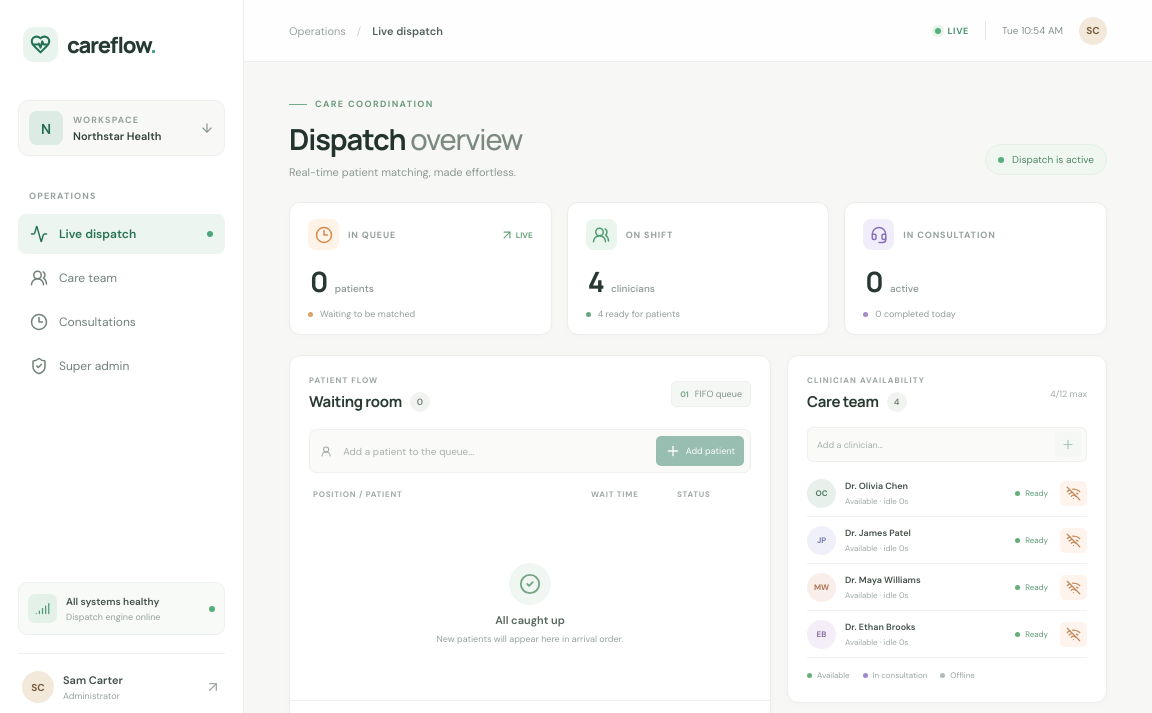
Test: dispatch dashboard › opens the super-admin console to manage patients, clinicians, and consultations
The width and height of the screenshot is (1152, 713).
Click the button "Super admin" at (122,366), box [18,346,225,386]
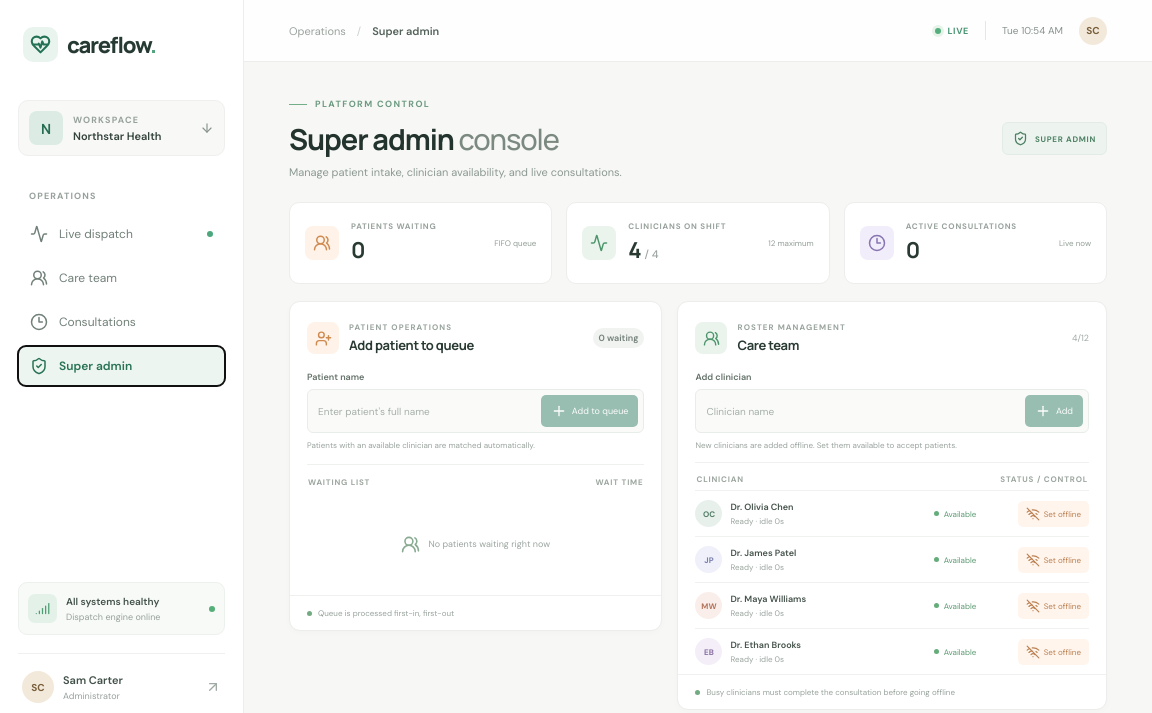
Result: the heading "Super admin console" is shown at [289,119,559,159]
Type "Admin Test Patient" into the field labelled "Patient name" at (423,411), box [313,398,533,424]
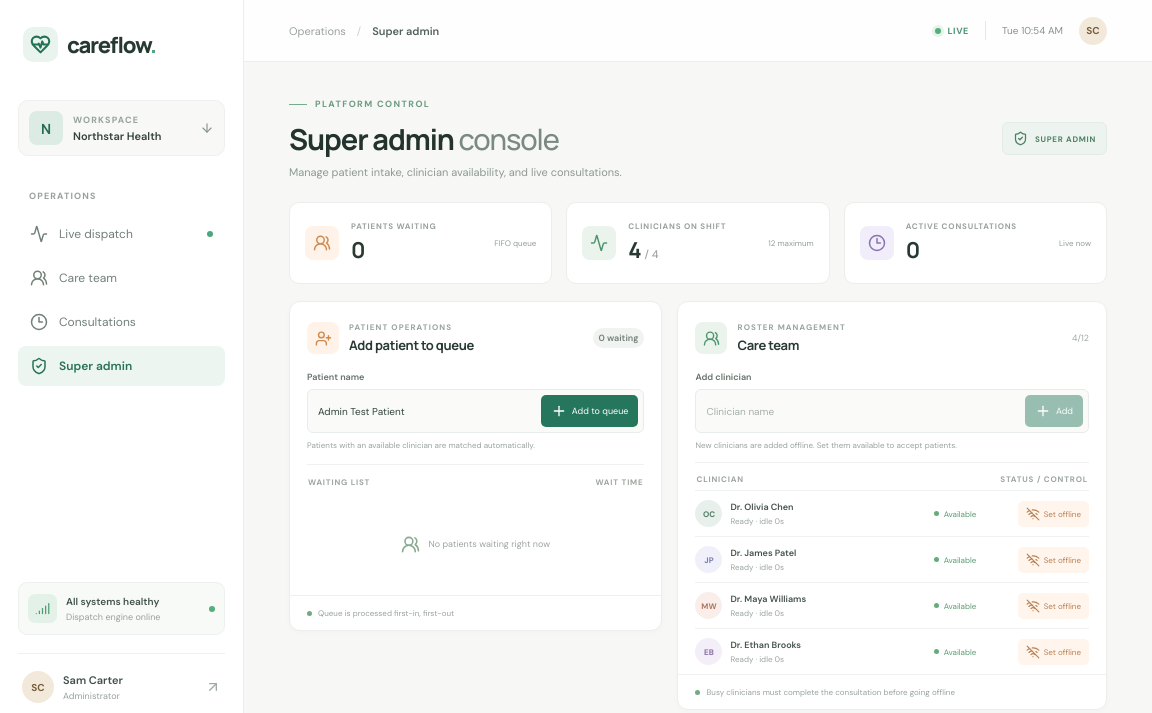
Click the button "Add to queue" at (590,411), box [541,395,638,427]
(page scrolled)
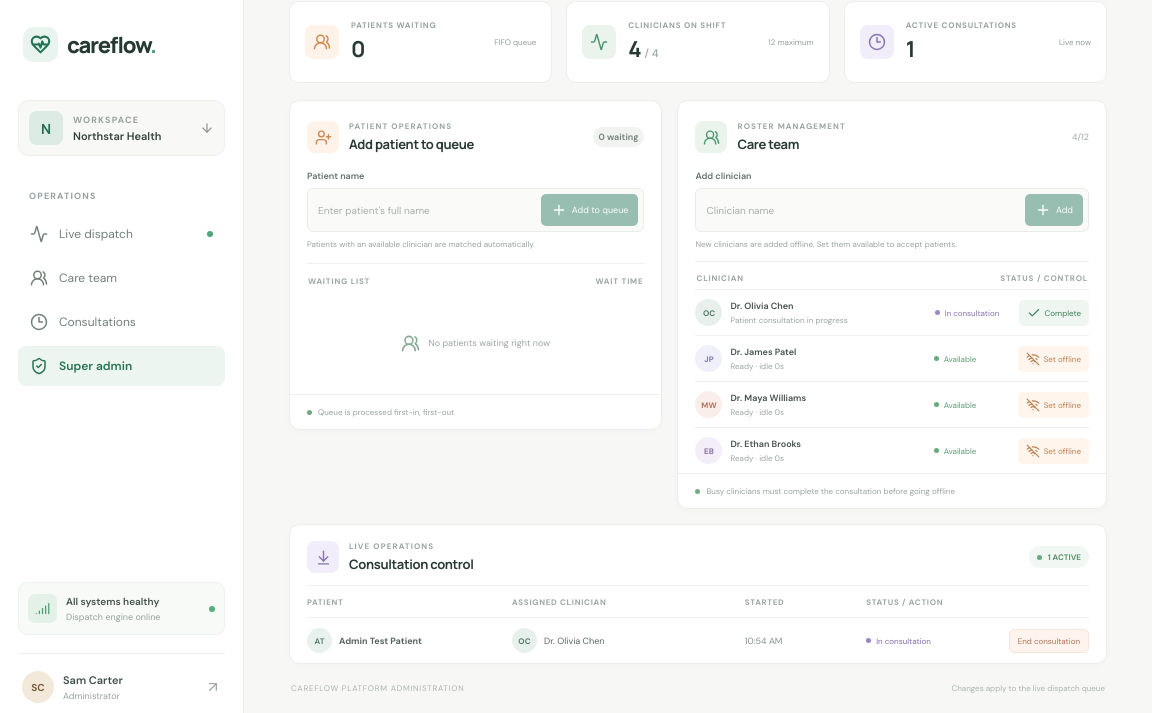
Result: the text "Admin Test Patient" is shown at [339,634,422,646]
Result: the button "End consultation" is shown
Click the button "End consultation" at (1049,640), box [1009,628,1089,652]
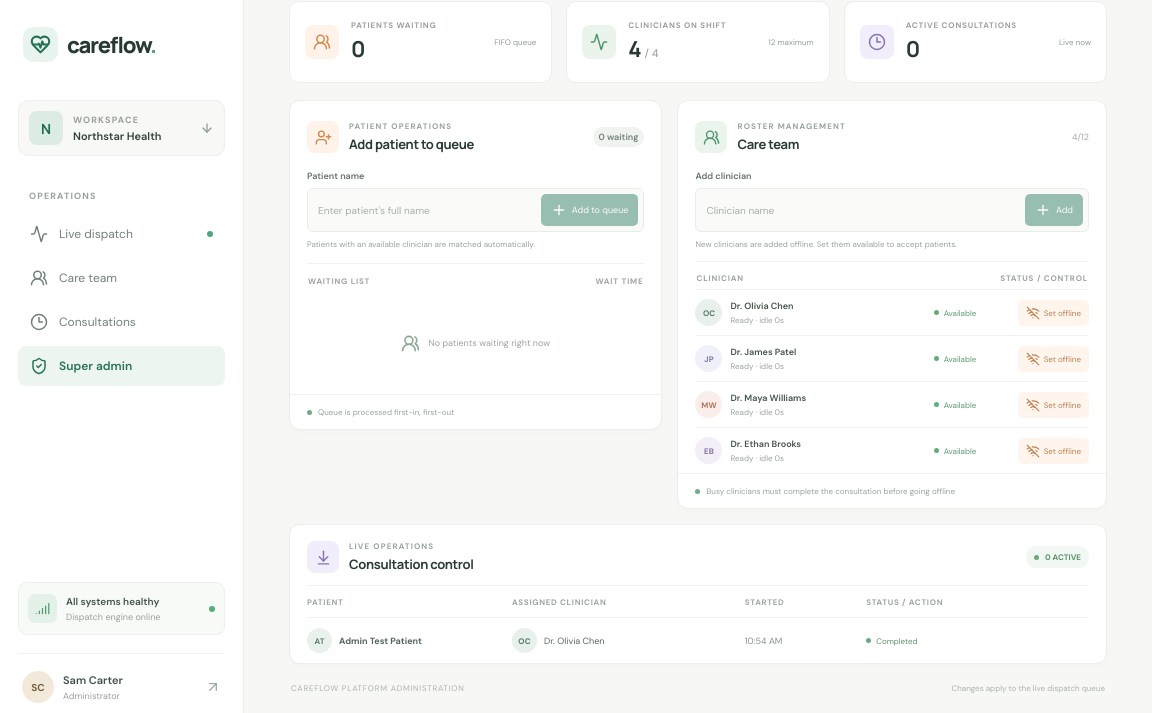
Result: the text "Completed" is shown at [866,636,918,646]
Type "Dr. Test Clinician" into the field labelled "Add clinician" at (859,210), box [702,196,1017,224]
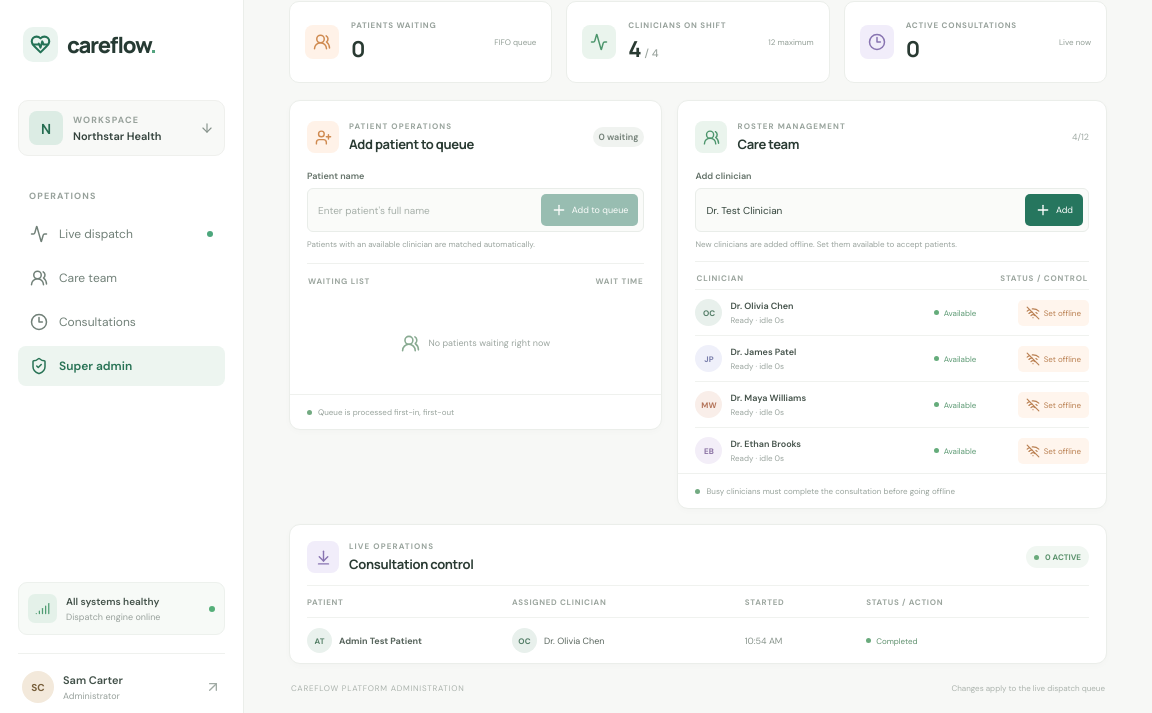
Click the button "Add" at (1054,210), box [1025,194,1083,226]
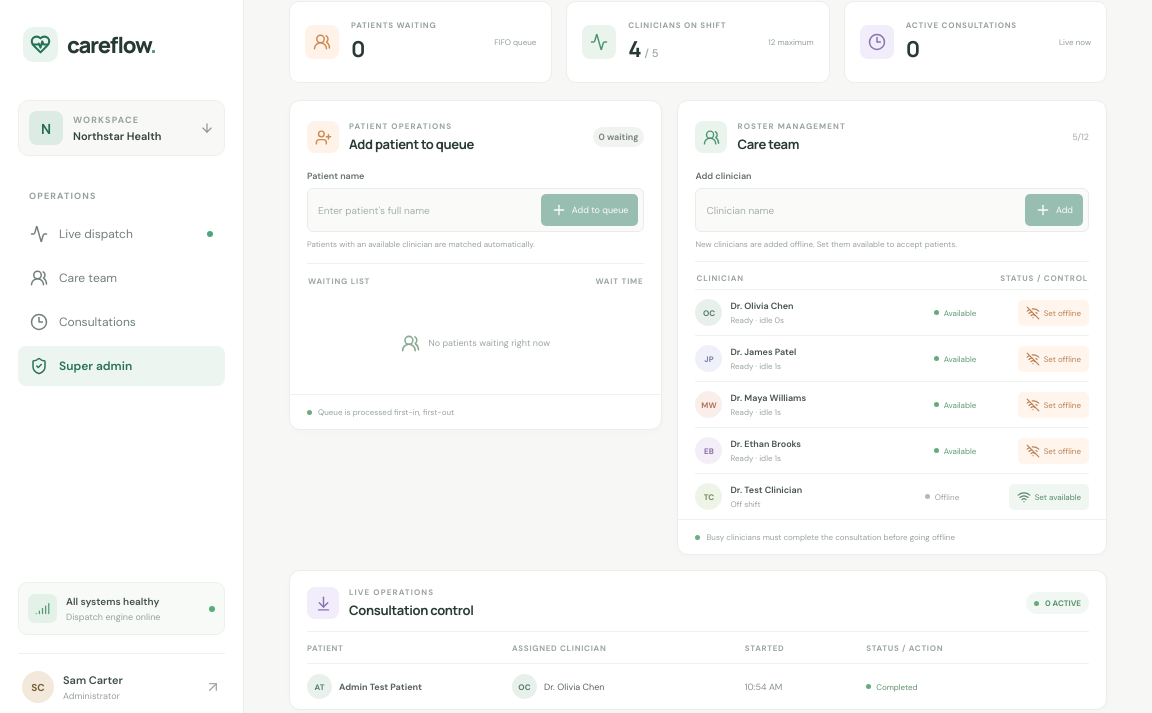
Result: the text "Dr. Test Clinician" is shown at [730,484,802,496]
Result: the button with aria-label "Set Dr. Test Clinician available" is shown at [1009,484,1089,510]
